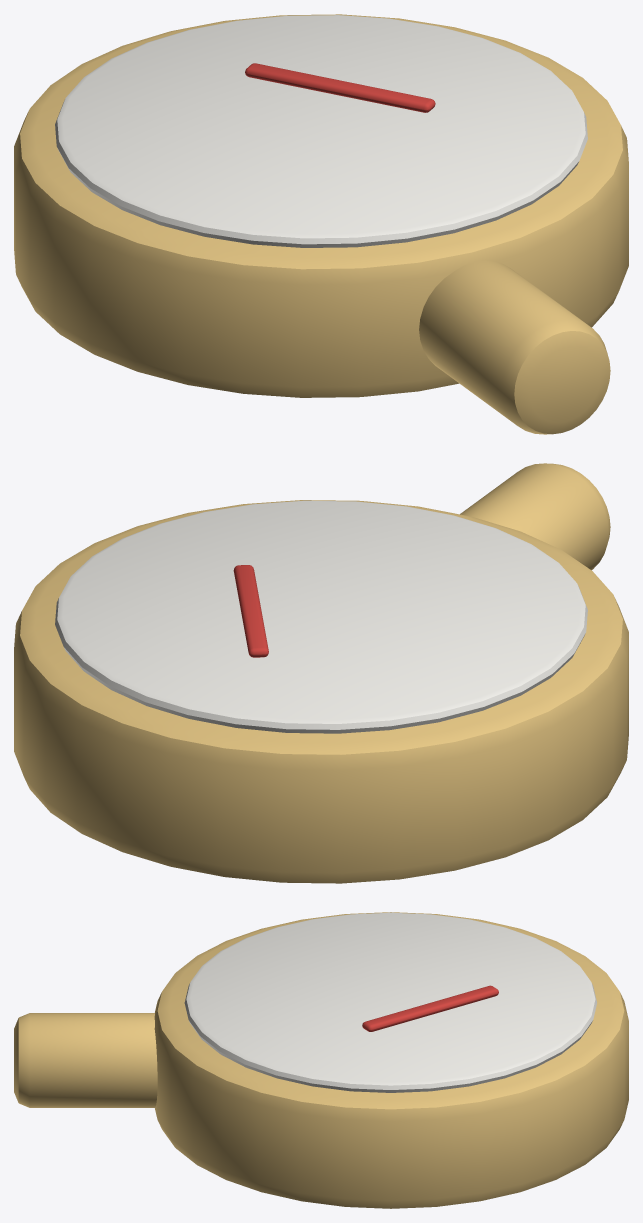
Rendered from gauge.glb.
3 renders of one model, top to bottom at view 1: azimuth 30°, elevation 25°; view 2: azimuth 150°, elevation 25°; view 3: azimuth 270°, elevation 25°, orthographic. The views are drawn at different scales.
Parts seen in each view (by area): view 1: face, case, stem, needle; view 2: case, face, stem, needle; view 3: case, face, stem, needle.
Boxes of the visible parts, bbox=[...] form: face: bbox=[55, 15, 587, 247]; case: bbox=[14, 14, 628, 397]; stem: bbox=[419, 260, 610, 434]; needle: bbox=[245, 63, 435, 112]; case: bbox=[14, 500, 628, 883]; face: bbox=[55, 500, 587, 733]; stem: bbox=[460, 463, 610, 570]; needle: bbox=[233, 565, 268, 657]; case: bbox=[154, 912, 628, 1208]; face: bbox=[184, 912, 596, 1092]; stem: bbox=[14, 1013, 157, 1107]; needle: bbox=[362, 985, 498, 1031].
Size of the model in its own units: 0.12 by 0.035 by 0.155.
